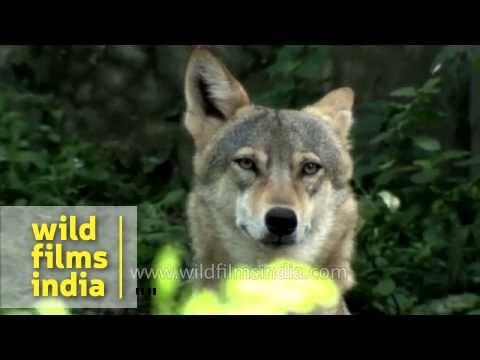wolf: (183, 40, 361, 315)
